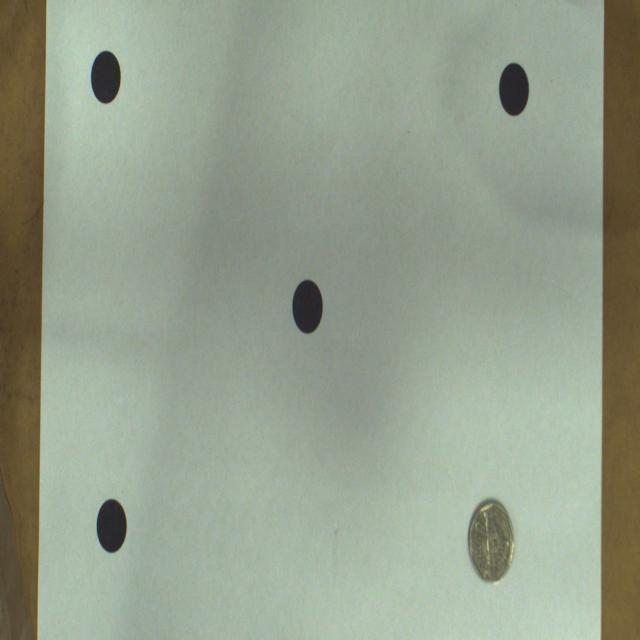space: (96, 500, 128, 553), (91, 51, 121, 104), (292, 280, 322, 333), (500, 64, 529, 116)
tail5bath: (469, 500, 514, 582)
